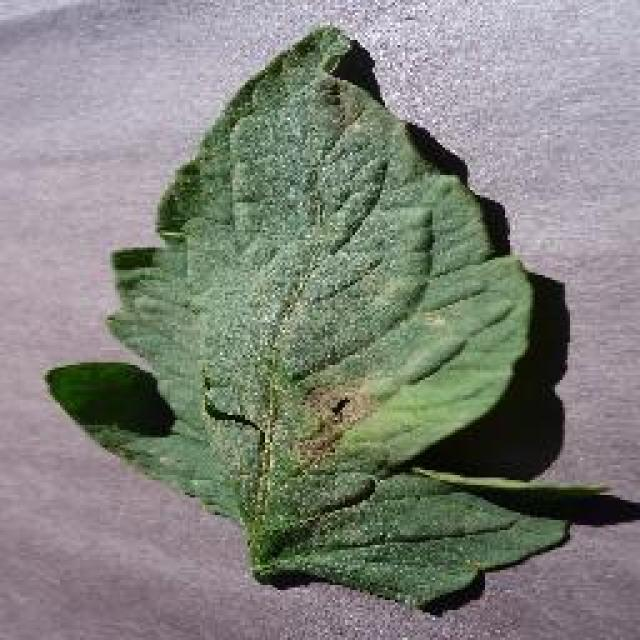Tomato___Early_blight: (39, 27, 638, 605)
